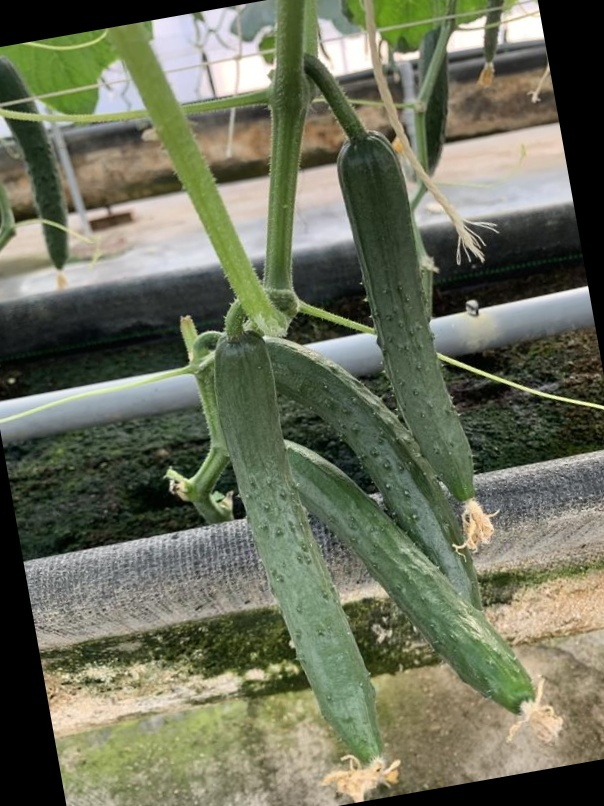mature: (217, 338, 389, 779), (280, 434, 531, 698), (329, 128, 488, 510)
